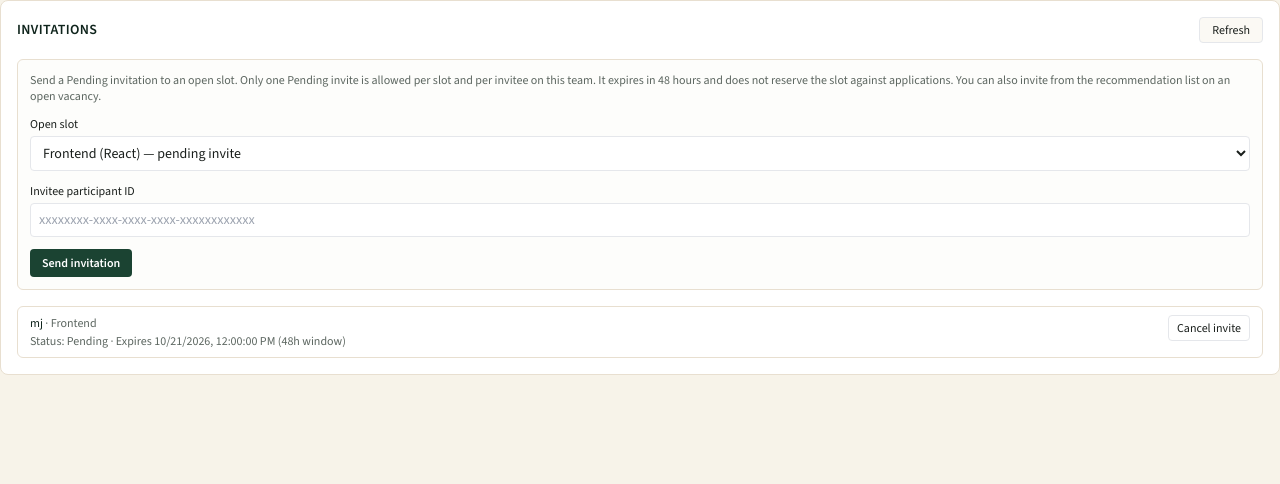
Test case: OwnerInvitationsPanel (US-017 / #167 invite form + invitation view) › cancels a Pending invitation and shows status alert (#166 / T4)
Click the button with test id "cancel-invitation-inv-pending": (1209, 328) [1168, 315, 1250, 341]
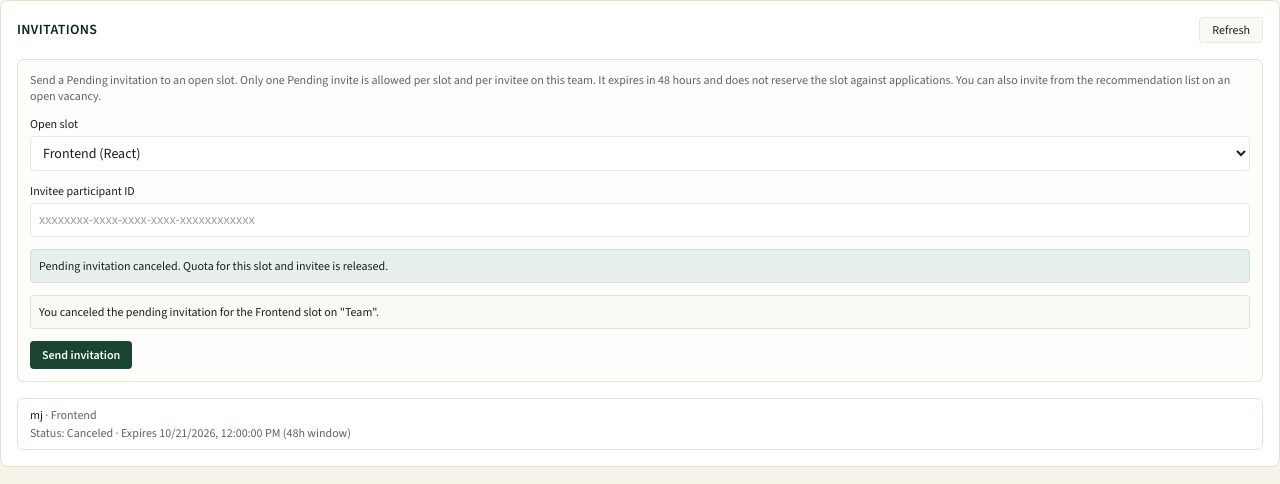
Check: the message with test id "invitation-status-alert" shows "canceled", box [39, 304, 379, 320]
Check: the text with test id "invitation-status-inv-pending" reads "Canceled", box [67, 425, 113, 441]
